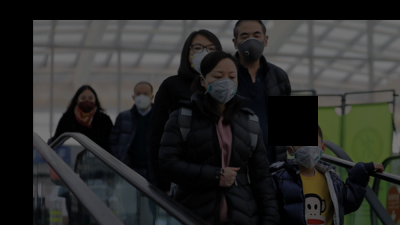with_mask: (202, 67, 239, 105), (291, 134, 324, 169), (234, 28, 265, 61), (187, 40, 217, 73), (133, 88, 154, 110), (76, 92, 96, 114)
